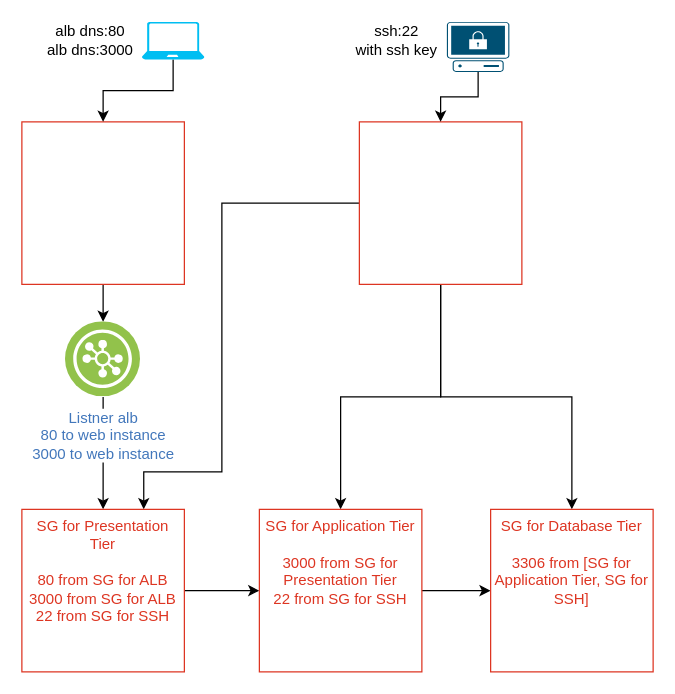
Some shapes in this 675 by 694 pixel diagram are drawn without their labels. Each missing label, with the centre of its shape:
SG for ALB 80 from ALL IP 3000 from ALL IP: the point at 102,202
SG for SSH (Bastion Host) 22 from Your IP address: the point at 440,202
